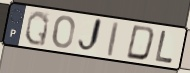D: (124, 24, 157, 63)
I: (106, 20, 120, 58)
J: (76, 17, 104, 55)
L: (154, 29, 175, 65)
O: (51, 14, 76, 50)
Q: (23, 10, 51, 48)
